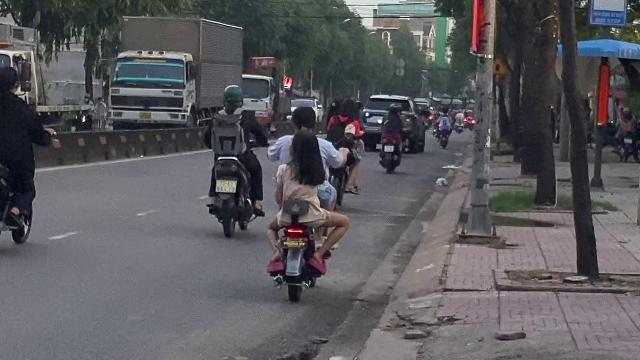helmet: (220, 84, 243, 108)
licenseplate: (216, 179, 236, 191)
motorcyclist: (261, 100, 351, 300), (0, 49, 50, 257), (201, 84, 267, 236)
nohelmet: (288, 131, 326, 180), (288, 104, 318, 132)
